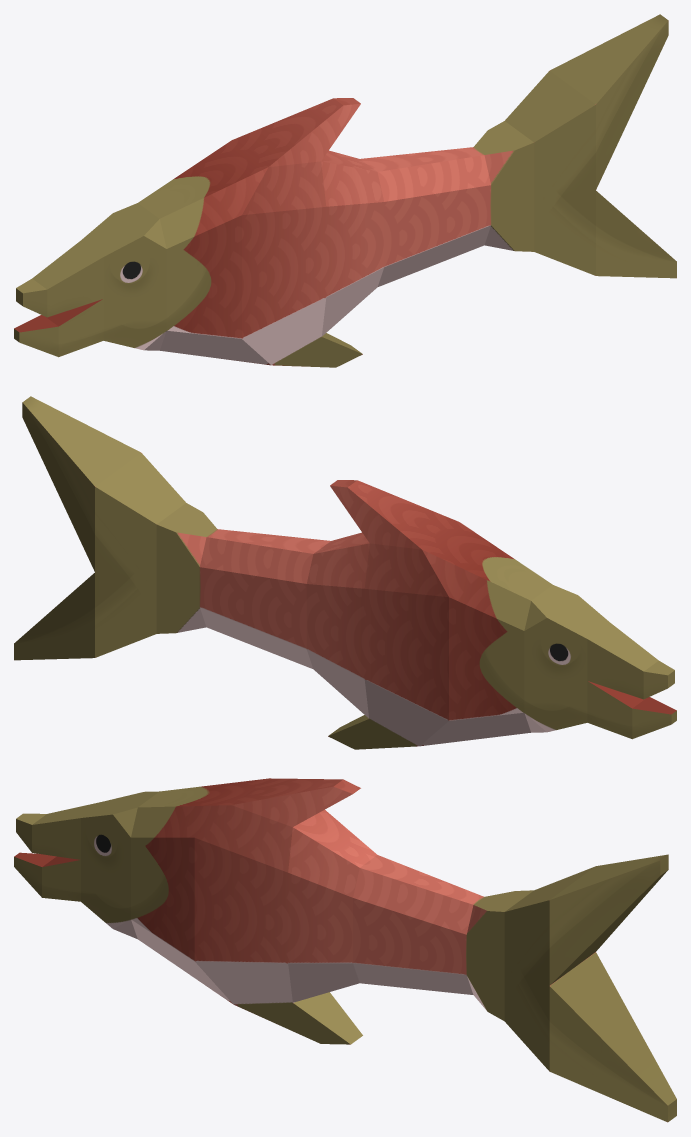
Rendered from Fimsh.fbx.
3 renders of one model, top to bottom at view 1: azimuth 30°, elevation 25°; view 2: azimuth 150°, elevation 25°; view 3: azimuth 330°, elevation 25°, orthographic.
Visible parts, largest first — view 1: Fish; view 2: Fish; view 3: Fish.
Part boxes in pixels (x1,y1,x2,y2): Fish: [14, 14, 676, 367]; Fish: [14, 396, 676, 749]; Fish: [14, 778, 676, 1122].
Bounding box in the file's own units: 48.72 × 18.66 × 6.06.
